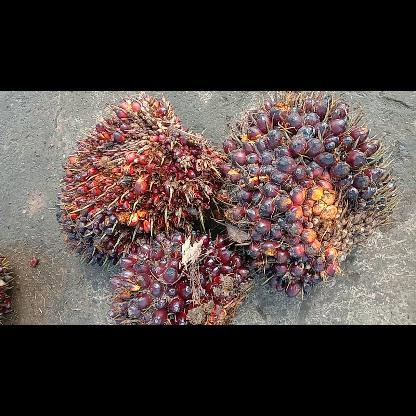Kurang masak: (220, 91, 396, 295), (106, 228, 252, 324)
TBS masak: (56, 92, 220, 262)
